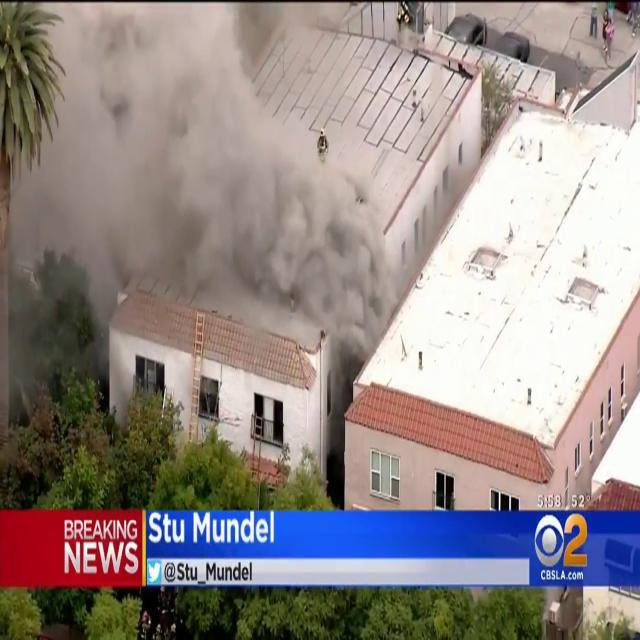Smoke: (3, 6, 245, 398)
